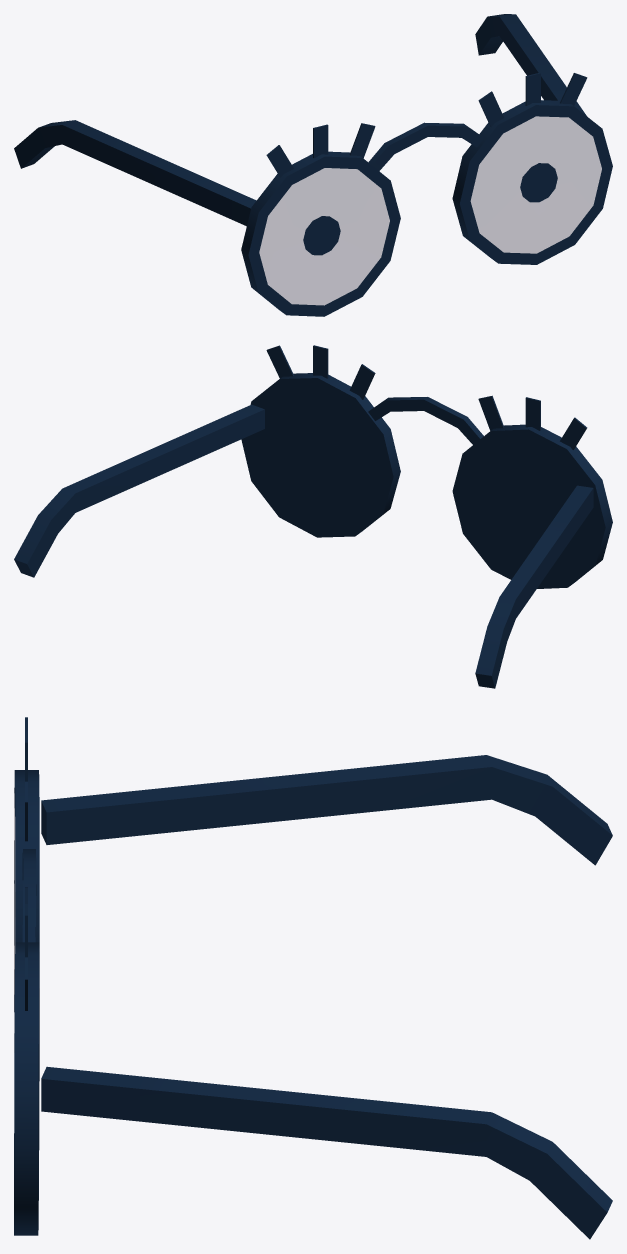
Rendered from Glasses_09.fbx.
The picture shows the model from 3 angles, top to bottom: view 1: azimuth 30°, elevation 25°; view 2: azimuth 150°, elevation 25°; view 3: azimuth 270°, elevation 25°; orthographic projection. The views are drawn at different scales.
Parts seen in each view (by area): view 1: Glasses_09.c, Glasses_stick_46, Glasses_stick_45; view 2: Glasses_09.c, Glasses_stick_45, Glasses_stick_46; view 3: Glasses_stick_45, Glasses_stick_46, Glasses_09.c.
Part boxes in pixels (x1,y1,x2,y2): Glasses_09.c: [241, 72, 612, 316]; Glasses_stick_46: [14, 120, 256, 226]; Glasses_stick_45: [475, 14, 586, 115]; Glasses_09.c: [241, 345, 612, 588]; Glasses_stick_45: [14, 404, 264, 577]; Glasses_stick_46: [475, 485, 593, 688]; Glasses_stick_45: [41, 1066, 612, 1239]; Glasses_stick_46: [41, 755, 612, 865]; Glasses_09.c: [14, 717, 39, 1235].
Size of the model in its own units: 0.707 by 0.2653 by 0.4601.
